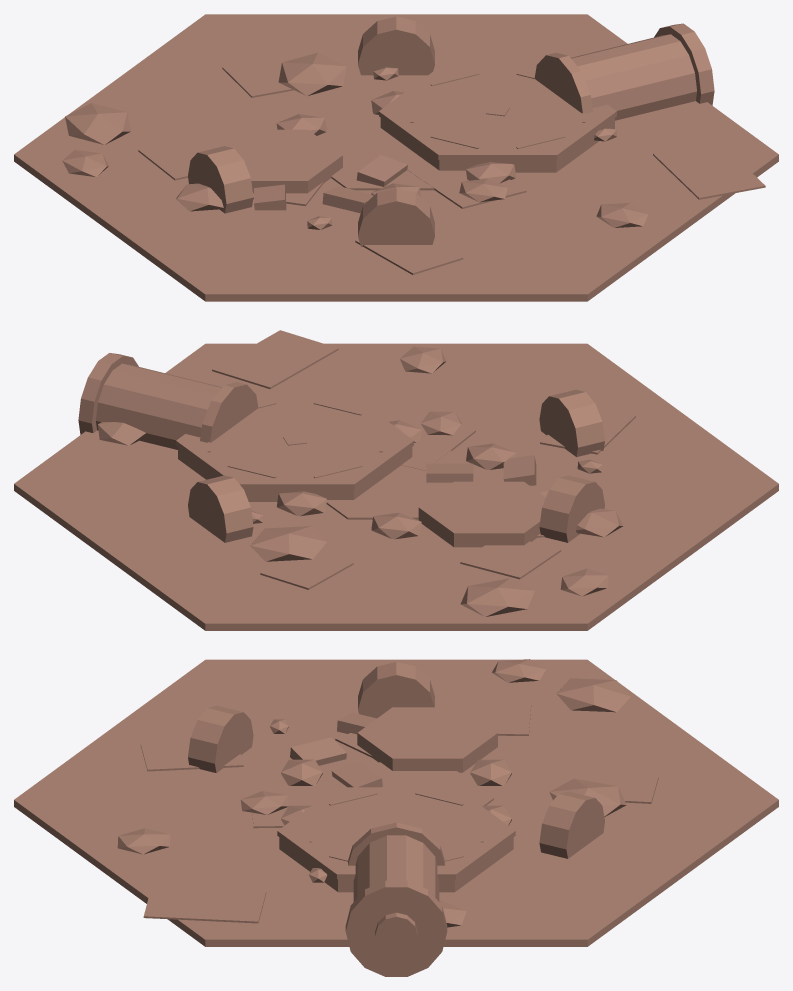
The model's file is resonance_trap_s2_ruin.glb.
3 views of the same model, one above another, from view 1: azimuth 30°, elevation 25°; view 2: azimuth 150°, elevation 25°; view 3: azimuth 270°, elevation 25° (orthographic).
Visible parts, largest first — view 1: RT_BP_1; view 2: RT_BP_1; view 3: RT_BP_1.
Boxes of the visible parts, <box> form: RT_BP_1: <box>14,14,778,301</box>; RT_BP_1: <box>14,330,778,630</box>; RT_BP_1: <box>14,659,778,976</box>.
Size of the model in its own units: 1.74 by 0.26 by 1.96.
